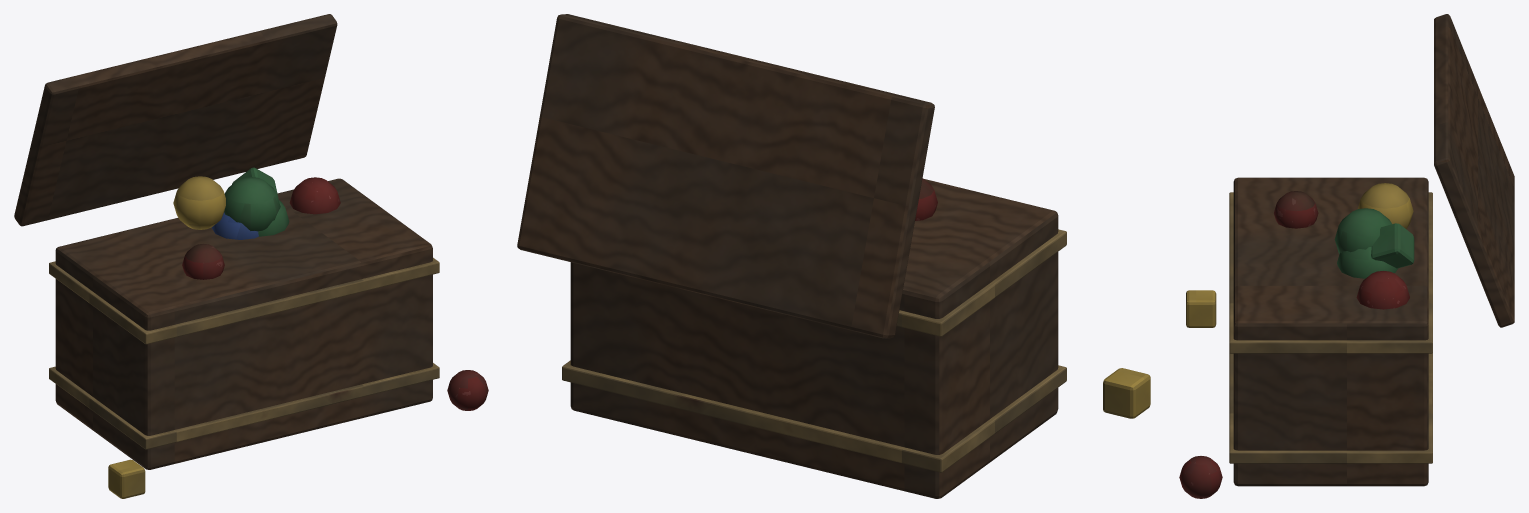
The model's file is B08_toy_chest_v1.glb.
The picture shows the model from 3 angles, left to right: view 1: azimuth 30°, elevation 25°; view 2: azimuth 150°, elevation 25°; view 3: azimuth 270°, elevation 25°; orthographic projection. The views are drawn at different scales.
Parts seen in each view (by area): view 1: B08_toy_chest_v1; view 2: B08_toy_chest_v1; view 3: B08_toy_chest_v1.
Boxes of the visible parts, x1=… form: B08_toy_chest_v1: x1=14, y1=14, x2=488, y2=498; B08_toy_chest_v1: x1=517, y1=14, x2=1150, y2=498; B08_toy_chest_v1: x1=1179, y1=14, x2=1514, y2=498.
Size of the model in its own units: 0.8 by 0.6458 by 0.5975.
6 materials, 6 textured.
